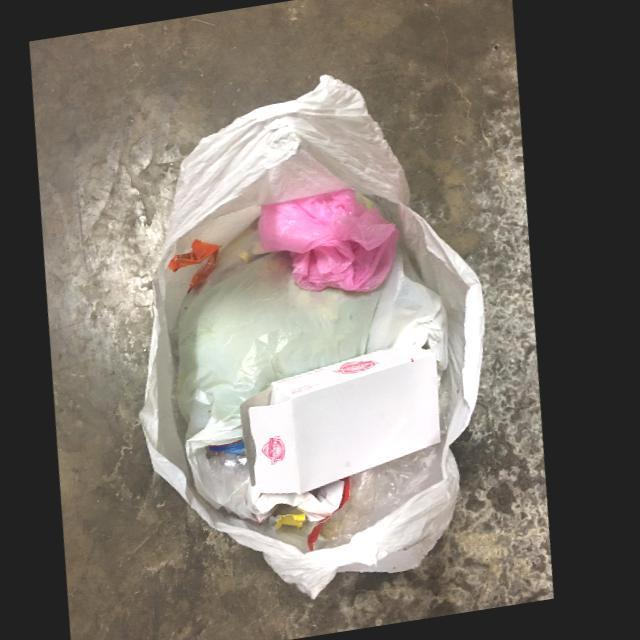paper: (256, 346, 449, 510), (261, 477, 357, 552)
plastic: (183, 221, 459, 517), (258, 186, 402, 294), (325, 442, 450, 549)
wrapper: (173, 239, 226, 290)
